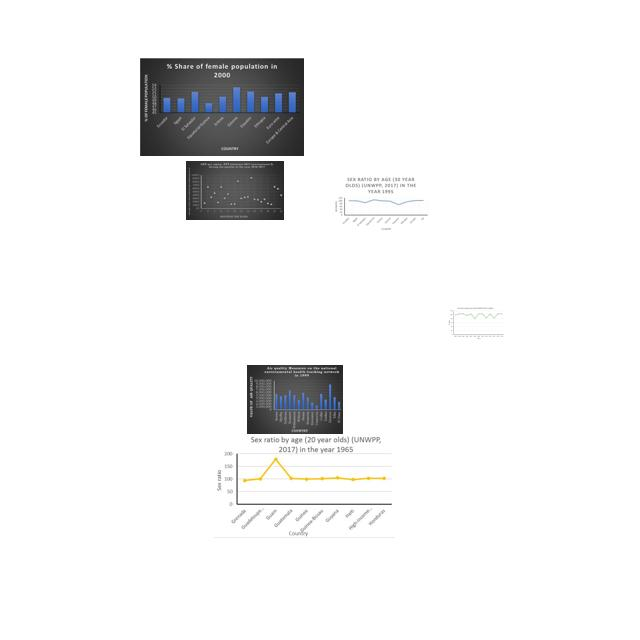Graph: (214, 434, 395, 538), (140, 58, 304, 156), (247, 365, 343, 434), (186, 161, 284, 220), (333, 176, 429, 231), (447, 306, 505, 340)
